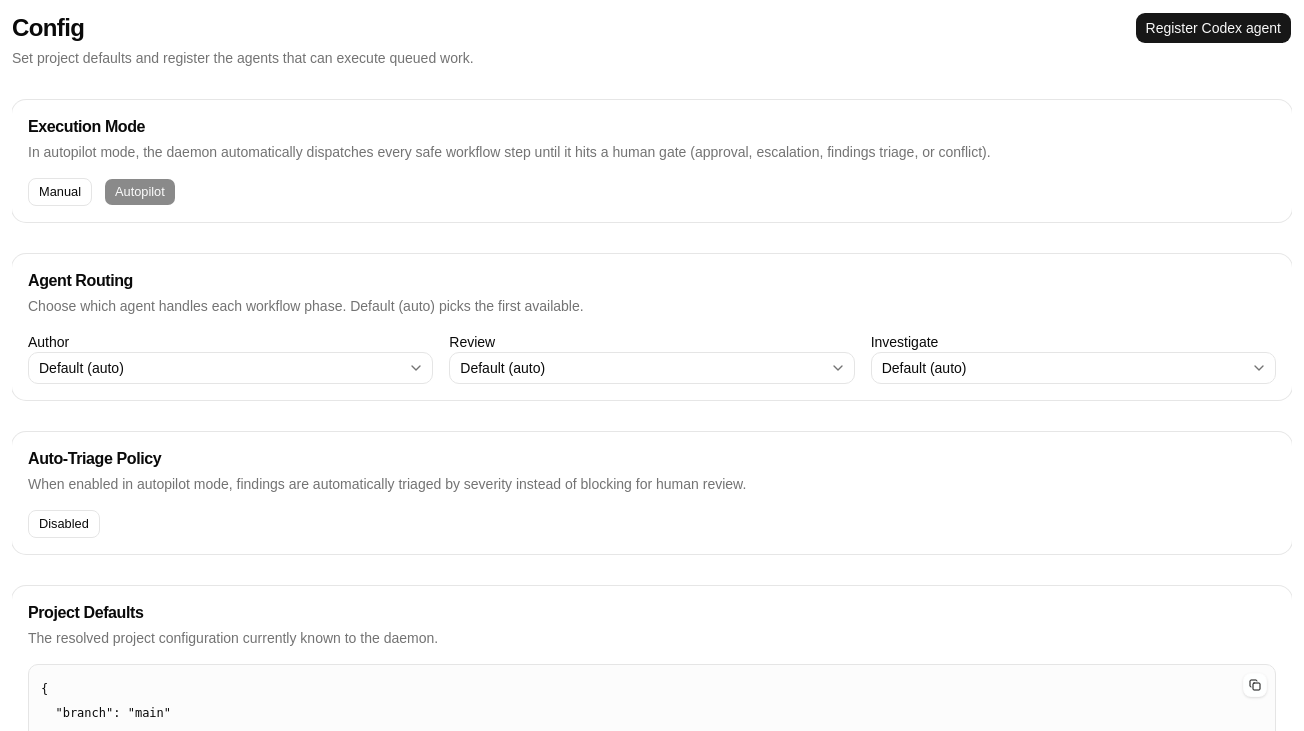
Test: ConfigPage › renders auto-triage policy card and sends update on toggle
Check: the text "Auto-Triage Policy" is shown, box [28, 450, 161, 467]
Click the button "Disabled". click: (64,524)
box: [28, 510, 100, 538]
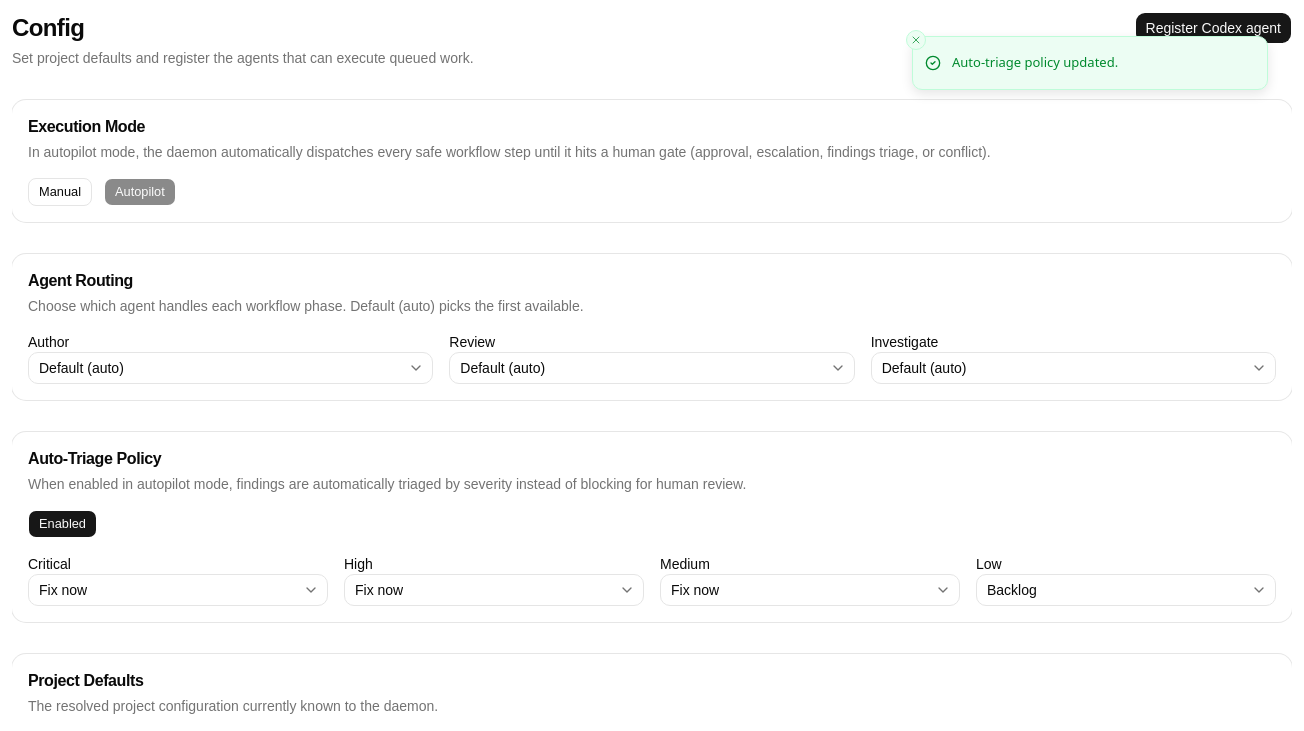
Check: the text "Auto-triage policy updated." is shown, box [952, 53, 1118, 72]
